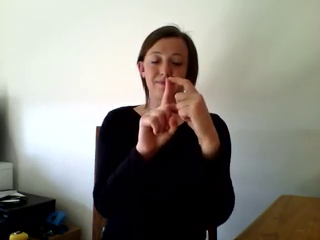D: (133, 71, 218, 158)
